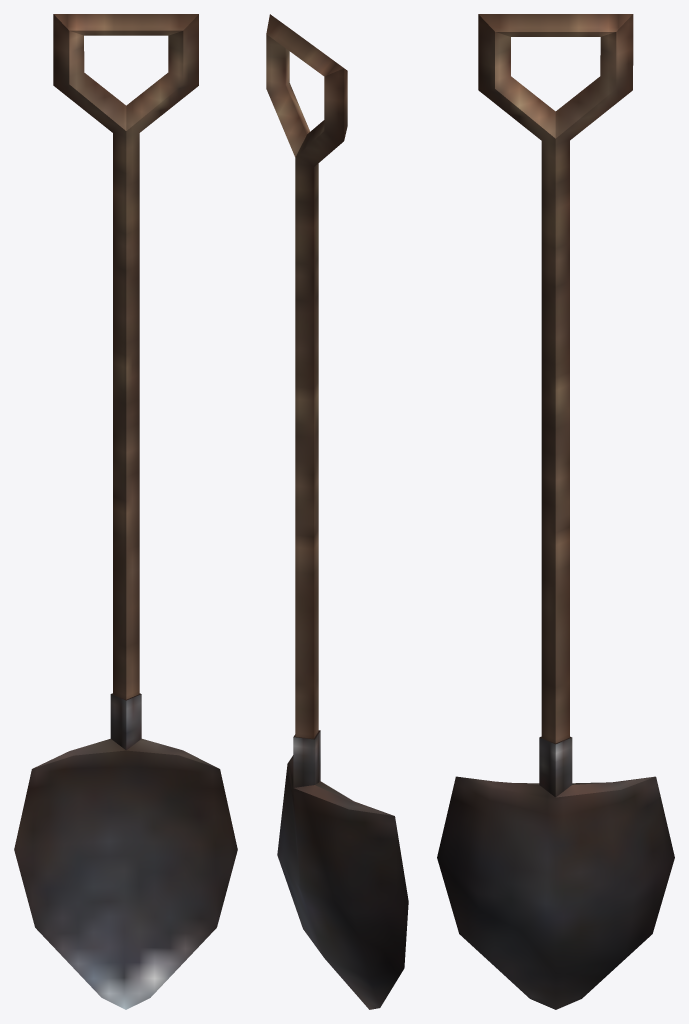
The model's file is SM_zhucheng_chanzi.FBX.
The picture shows the model from 3 angles, left to right: view 1: azimuth 90°, elevation 25°; view 2: azimuth 210°, elevation 25°; view 3: azimuth 270°, elevation 25°; orthographic projection. The views are drawn at different scales.
Parts seen in each view (by area): view 1: SM_zhucheng_chanzi; view 2: SM_zhucheng_chanzi; view 3: SM_zhucheng_chanzi.
Part boxes in pixels (x1,y1,x2,y2): SM_zhucheng_chanzi: (14, 14, 237, 1009); SM_zhucheng_chanzi: (266, 14, 408, 1009); SM_zhucheng_chanzi: (437, 14, 674, 1009).
Bounding box in the file's own units: 25.27 × 312 × 65.58.
